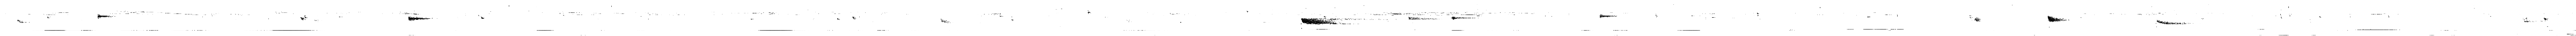meteor: (1301, 18, 1342, 25), (2157, 20, 2190, 25), (2047, 15, 2067, 21), (407, 16, 430, 21), (1410, 16, 1439, 20), (1598, 13, 1617, 18), (97, 13, 113, 18), (940, 18, 951, 25), (1451, 16, 1474, 20), (16, 20, 30, 23)
